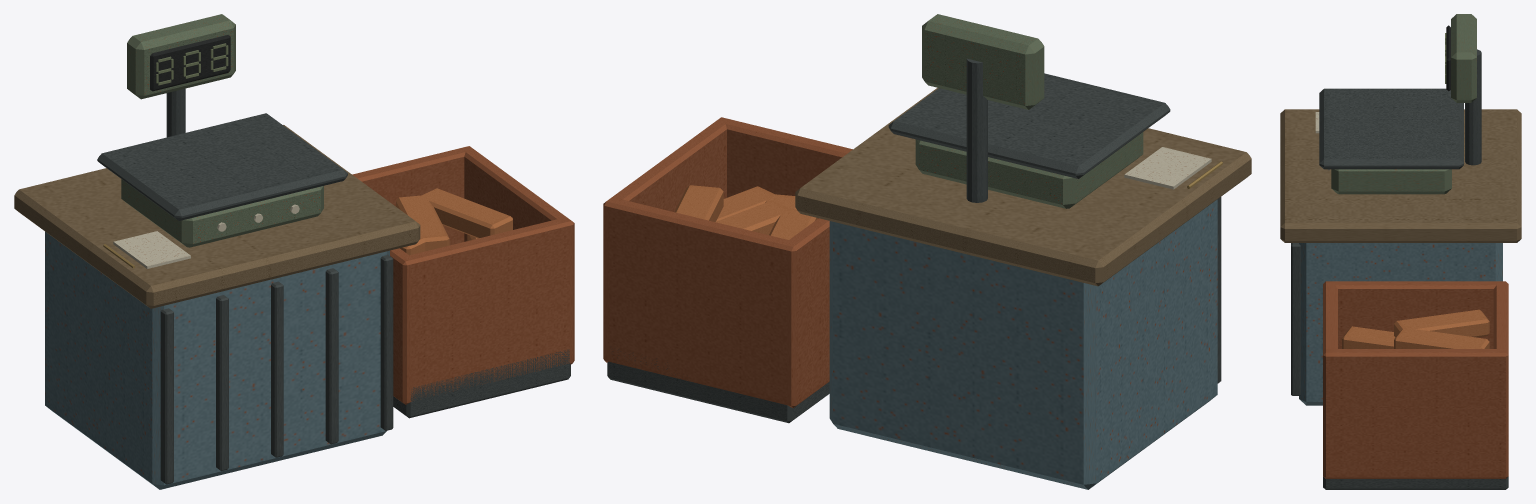
The model's file is BuyingScale.fbx.
3 views of the same model, side by side, from view 1: azimuth 30°, elevation 25°; view 2: azimuth 150°, elevation 25°; view 3: azimuth 270°, elevation 25° (orthographic). The views are drawn at different scales.
Visible parts, largest first — view 1: BuyingScale; view 2: BuyingScale; view 3: BuyingScale.
Part boxes in pixels (<box>): BuyingScale: <box>14,14,574,489</box>; BuyingScale: <box>603,14,1251,489</box>; BuyingScale: <box>1280,14,1521,489</box>.
Size of the model in its own units: 247 by 193 by 130.
1 material, 1 textured.
